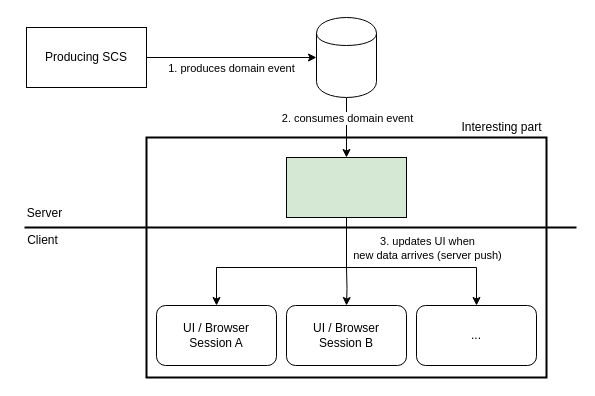
Some shapes in this 595 by 396 pixel diagram are drawn without their labels. The box of each missing label's shape, as (x1, y1, x2, y2) in pixels:
Consuming SCS with Vaadin UI: (286, 156, 406, 218)
Message broker (Kafka): (316, 16, 376, 98)
